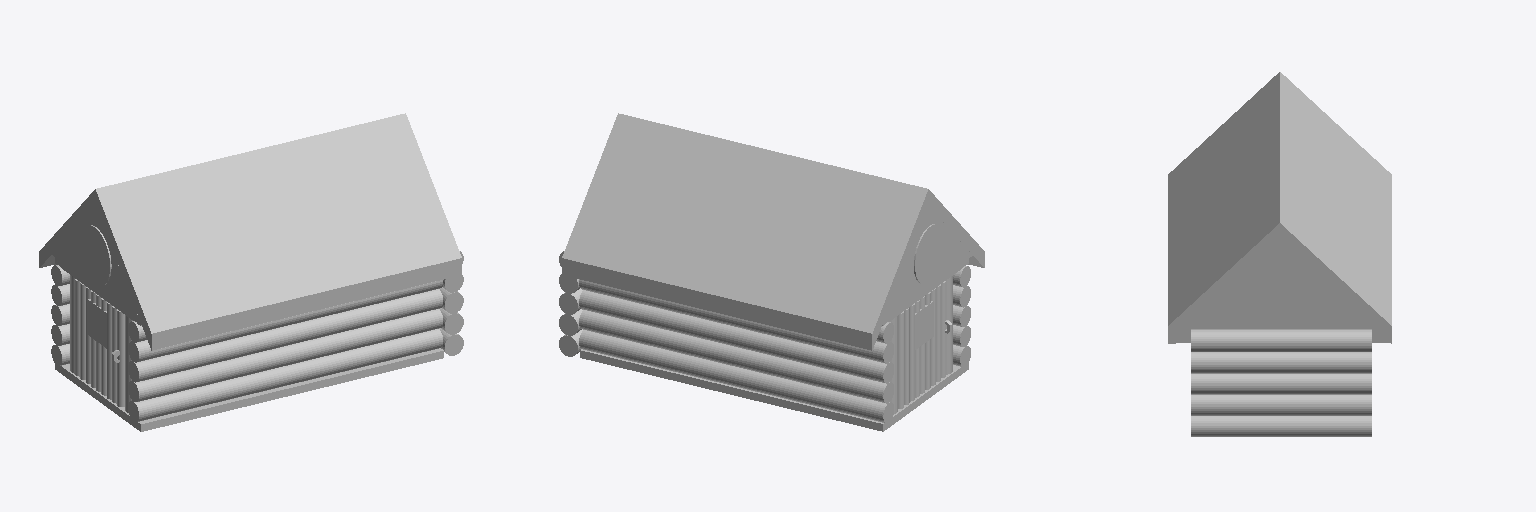
Rendered from AbandonedHouse.obj.
3 renders of one model, left to right at view 1: azimuth 30°, elevation 25°; view 2: azimuth 150°, elevation 25°; view 3: azimuth 270°, elevation 25°, orthographic.
Parts seen in each view (by area): view 1: Roof_Cube.003, Walls_Cylinder, Door_Cube.006, Floor_Cube, BackWall_Cylinder.002, BALK_Cylinder.003; view 2: Roof_Cube.003, Walls_Cylinder, Door_Cube.006, Floor_Cube, BackWall_Cylinder.002, BALK_Cylinder.003; view 3: Roof_Cube.003, BackWall_Cylinder.002.
Part boxes in pixels (bbox=[...]): Roof_Cube.003: bbox=[39, 113, 461, 350]; Walls_Cylinder: bbox=[51, 265, 442, 421]; Door_Cube.006: bbox=[75, 279, 124, 406]; Floor_Cube: bbox=[55, 348, 443, 431]; BackWall_Cylinder.002: bbox=[439, 251, 463, 355]; BALK_Cylinder.003: bbox=[70, 275, 132, 412]; Roof_Cube.003: bbox=[562, 113, 984, 350]; Walls_Cylinder: bbox=[579, 266, 970, 422]; Door_Cube.006: bbox=[898, 281, 951, 408]; Floor_Cube: bbox=[580, 349, 968, 431]; BackWall_Cylinder.002: bbox=[559, 251, 582, 356]; BALK_Cylinder.003: bbox=[890, 276, 952, 413]; Roof_Cube.003: bbox=[1168, 72, 1391, 343]; BackWall_Cylinder.002: bbox=[1191, 329, 1371, 436].
Bounding box in the file's own units: 403 × 250 × 240.